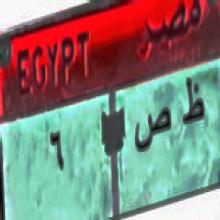6: (47, 127, 66, 182)
Thaa: (182, 75, 206, 131)
saad: (134, 104, 172, 162)
